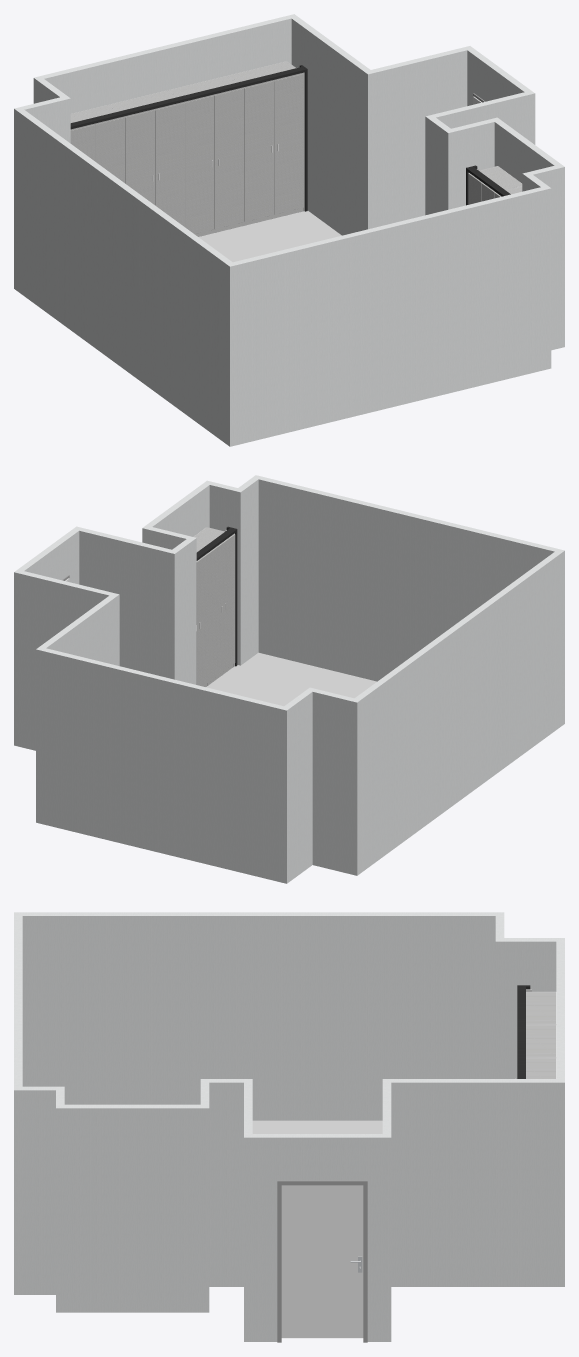
The model's file is Landmark_Room_fbx.fbx.
3 views of the same model, one above another, from view 1: azimuth 30°, elevation 25°; view 2: azimuth 150°, elevation 25°; view 3: azimuth 270°, elevation 25° (orthographic). The views are drawn at different scales.
Parts seen in each view (by area): view 1: x3g_room:Wall:Right (×4), x3g_room:Wall:Left (×8), IMPORT (×13), x3g_room:Wall:Middle (×4), x3g_room:Floor:Main; view 2: x3g_room:Wall:Right (×6), x3g_room:Wall:Left (×8), IMPORT (×3), x3g_room:Floor:Main, x3g_room:Wall:Middle (×4); view 3: x3g_room:Wall:Right (×5), x3g_room:Wall:Left (×2), x3g_room:Door:Leaf_0, x3g_room:Wall:Middle (×7), IMPORT (×4), x3g_room:Door:Frame, x3g_room:Floor:Main.
Boxes of the visible parts, x1,y1,x2,y2 form: x3g_room:Wall:Right (×4): (14, 93, 564, 446); x3g_room:Wall:Left (×8): (24, 18, 554, 235); IMPORT (×13): (70, 61, 305, 233); x3g_room:Wall:Middle (×4): (14, 14, 550, 266); x3g_room:Floor:Main: (198, 211, 341, 262); x3g_room:Wall:Right (×6): (14, 528, 564, 883); x3g_room:Wall:Left (×8): (24, 479, 554, 684); IMPORT (×3): (196, 534, 235, 686); x3g_room:Floor:Main: (206, 652, 376, 706); x3g_room:Wall:Middle (×4): (36, 475, 564, 710); x3g_room:Wall:Right (×5): (14, 1082, 564, 1341); x3g_room:Wall:Left (×2): (22, 916, 556, 1120); x3g_room:Door:Leaf_0: (281, 1185, 363, 1337); x3g_room:Wall:Middle (×7): (14, 912, 564, 1137); IMPORT (×4): (517, 986, 555, 1078); x3g_room:Door:Frame: (277, 1180, 367, 1342); x3g_room:Floor:Main: (252, 1120, 382, 1338).
Bounding box in the file's own units: 6.15 × 2.6 × 6.35.
Materials: 13 (9 with a texture image).
